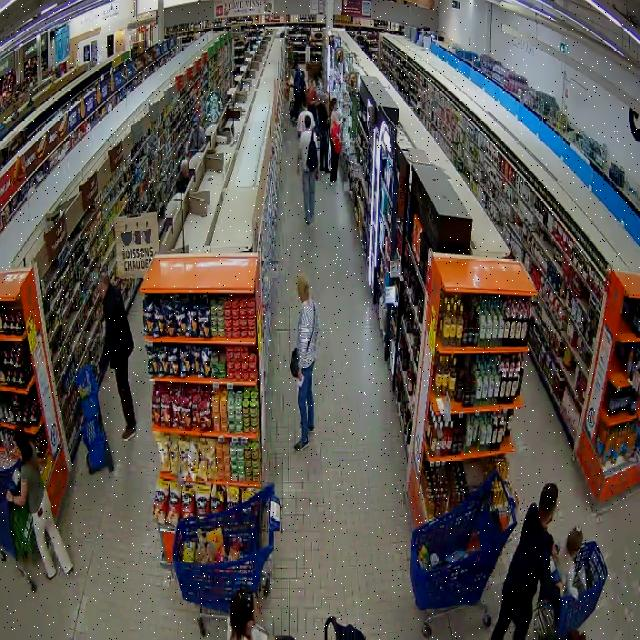bags: (307, 132, 318, 171), (308, 305, 315, 348)
hands: (551, 545, 558, 562), (556, 582, 564, 594), (6, 489, 12, 502), (298, 369, 302, 380), (316, 169, 319, 180), (298, 163, 300, 175)
person: (491, 484, 559, 639), (7, 426, 73, 578), (99, 274, 136, 440), (294, 275, 319, 451), (228, 588, 293, 639), (299, 115, 319, 224), (555, 527, 582, 597)
